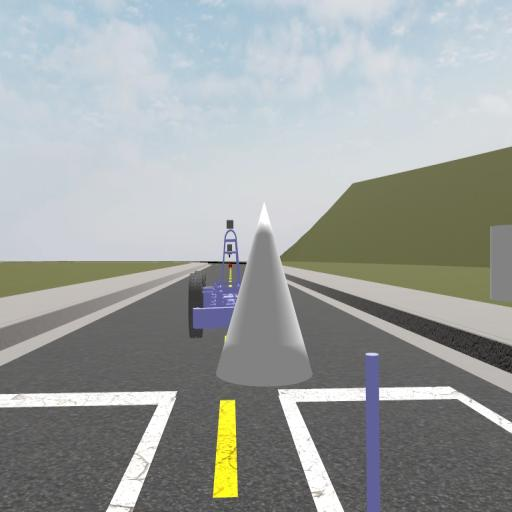ERP-42: (187, 218, 242, 336)
